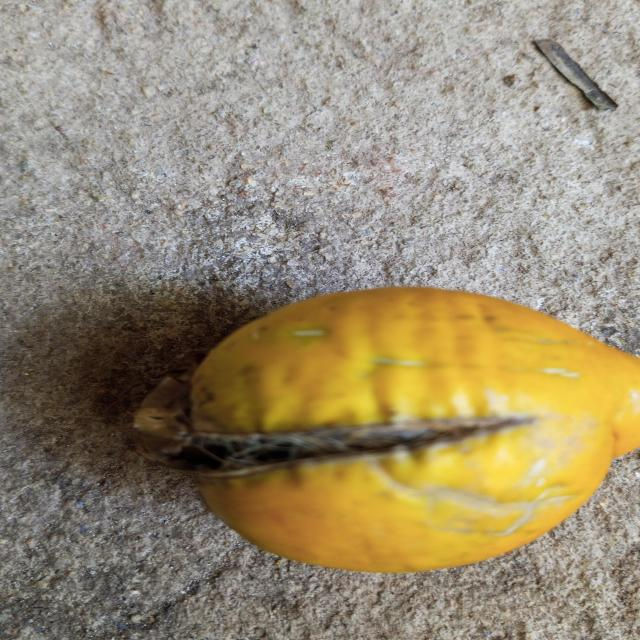damaged: (134, 287, 640, 572)
